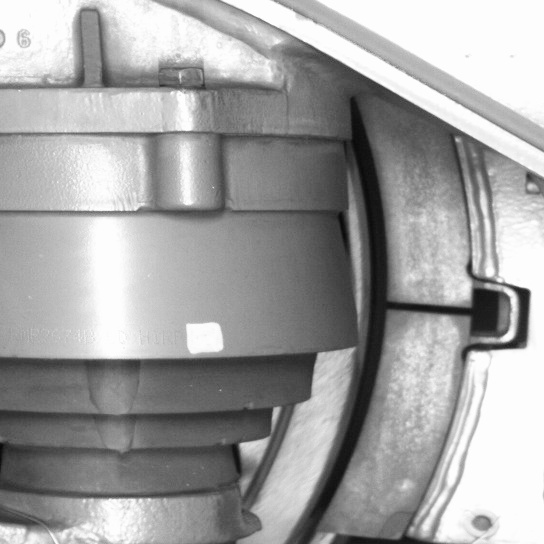KnifeSwitch: (283, 137, 494, 542)
